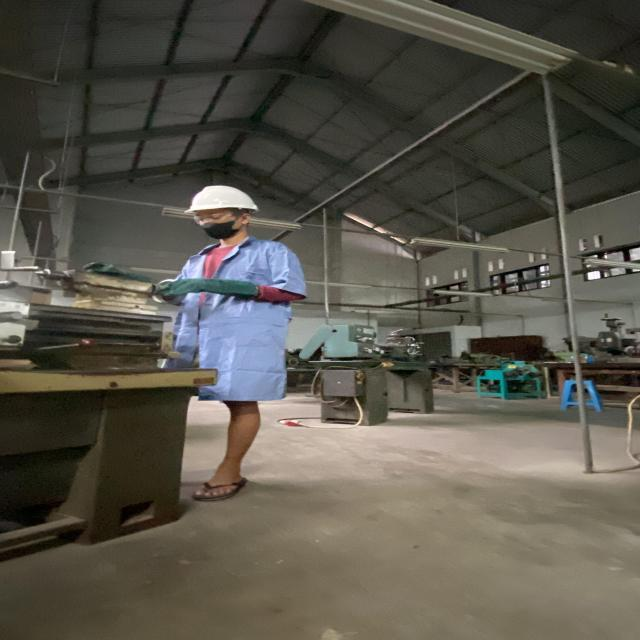glasses: (190, 208, 236, 224)
